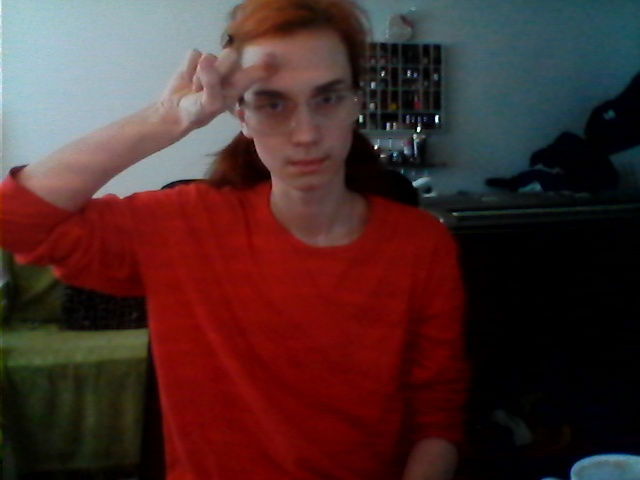chlapec: (162, 37, 293, 117)
